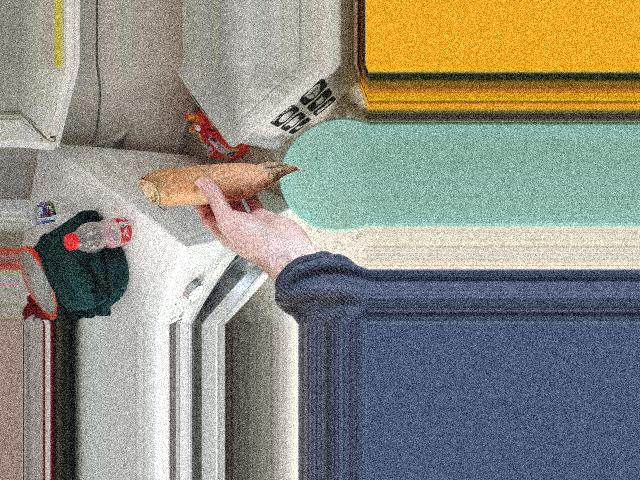sweet_potato: (145, 149, 296, 207)
